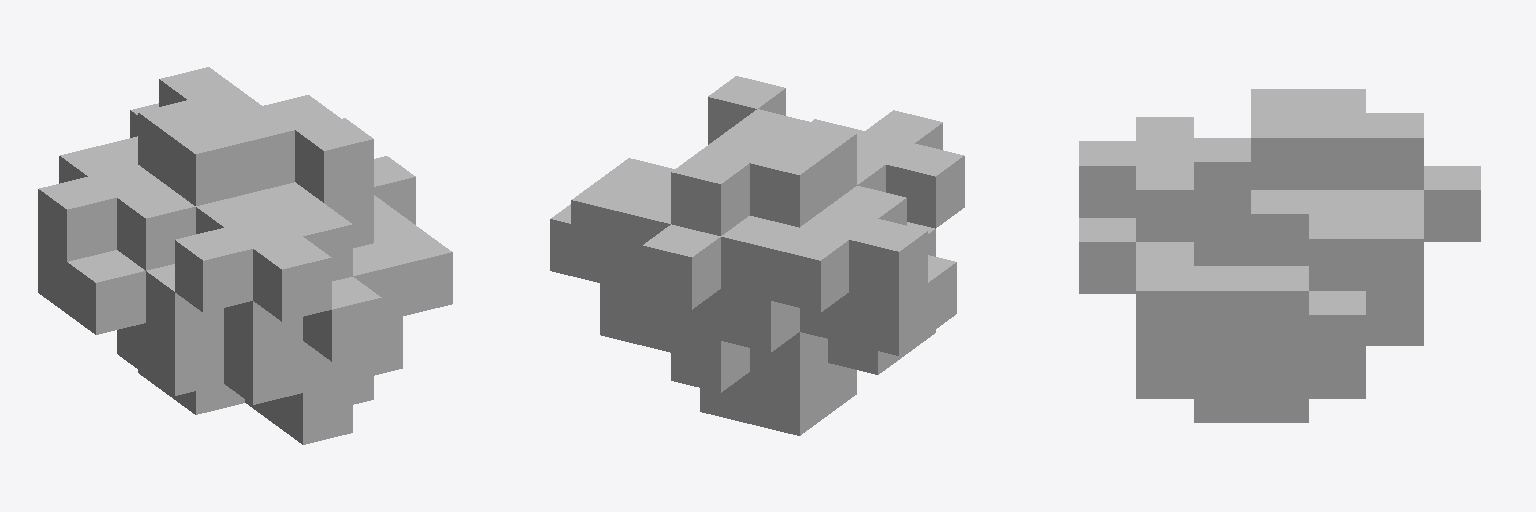
Rendered from kamien2.obj.
3 renders of one model, left to right at view 1: azimuth 30°, elevation 25°; view 2: azimuth 150°, elevation 25°; view 3: azimuth 270°, elevation 25°, orthographic.
Parts seen in each view (by area): view 1: object 1; view 2: object 1; view 3: object 1.
Boxes of the visible parts, <box> form: object 1: <box>38,67,452,444</box>; object 1: <box>550,76,964,435</box>; object 1: <box>1079,89,1480,422</box>.
Bounding box in the file's own units: 0.7 × 0.5 × 0.7.